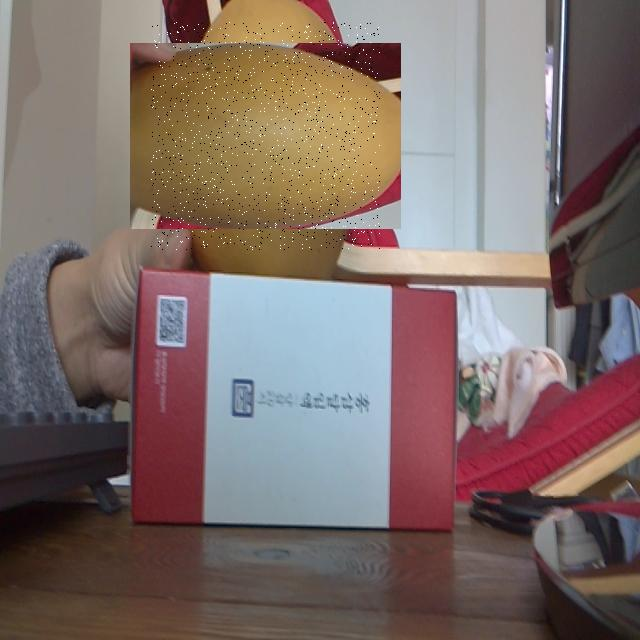pear: (151, 22, 380, 250)
